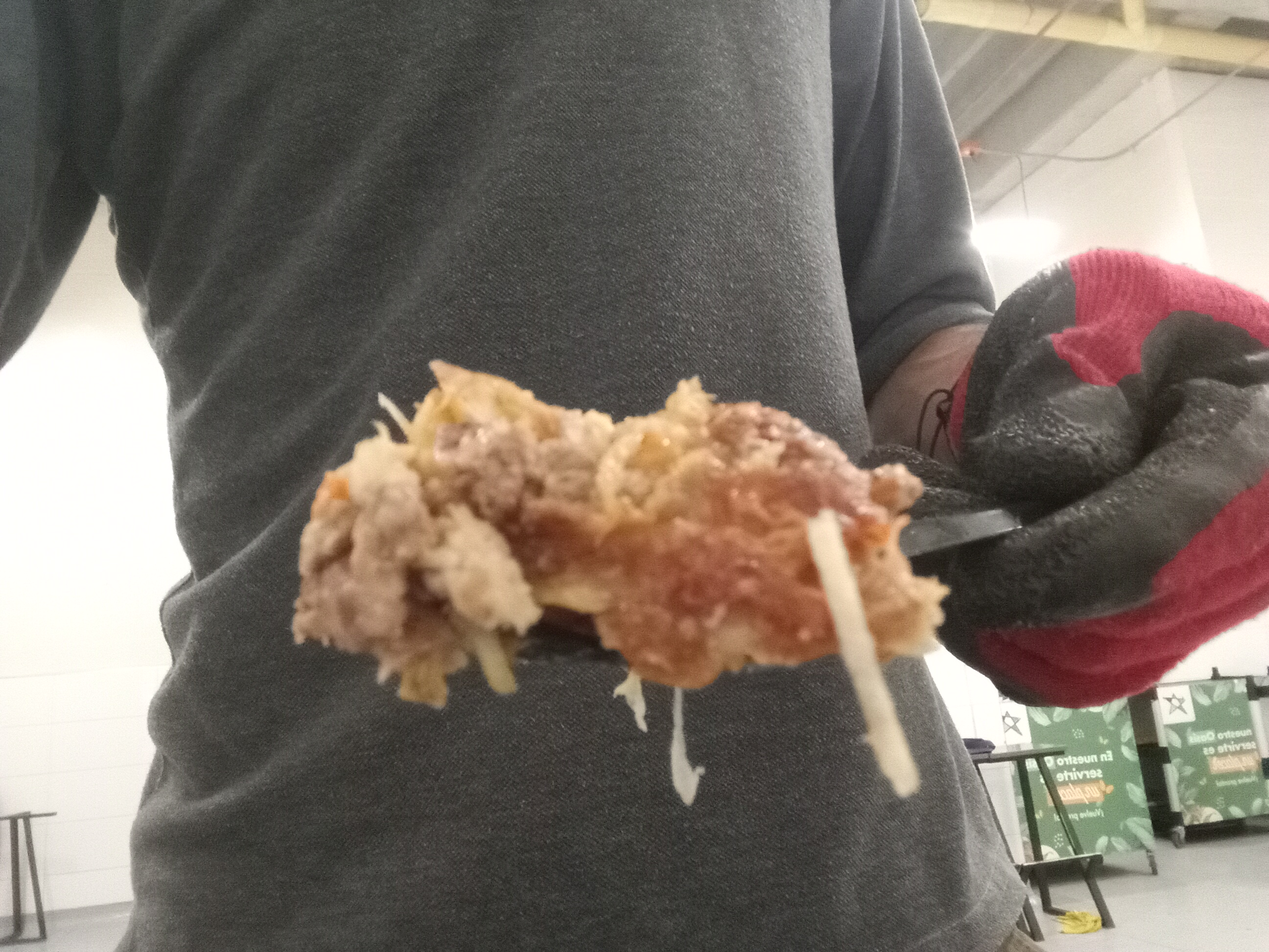Organico: (293, 360, 948, 708)
